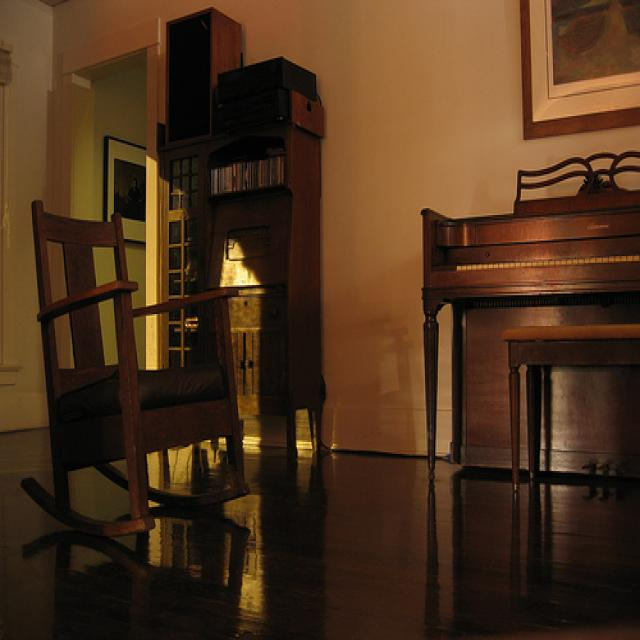Table: (385, 183, 640, 520)
chair: (36, 186, 254, 573), (500, 306, 640, 543)
